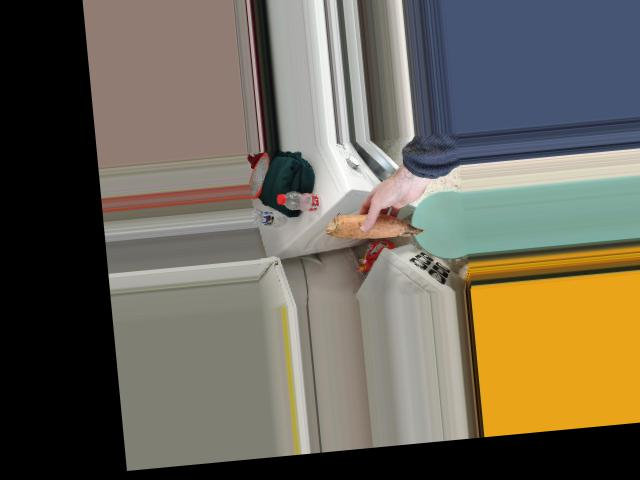sweet_potato: (328, 207, 423, 250)
